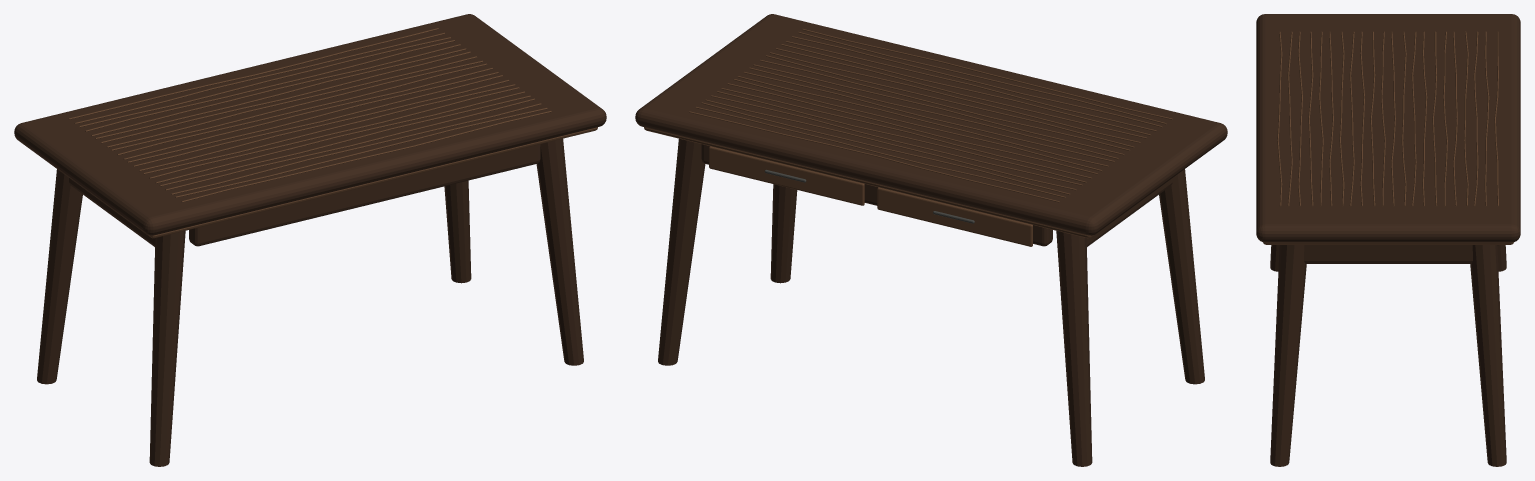
File: desk_desktop.fbx
The picture shows the model from 3 angles, left to right: view 1: azimuth 30°, elevation 25°; view 2: azimuth 150°, elevation 25°; view 3: azimuth 270°, elevation 25°; orthographic projection. The views are drawn at different scales.
Parts seen in each view (by area): view 1: desk_desktop; view 2: desk_desktop; view 3: desk_desktop.
Part boxes in pixels (bbox=[...]): desk_desktop: bbox=[14, 14, 606, 466]; desk_desktop: bbox=[635, 14, 1227, 466]; desk_desktop: bbox=[1256, 14, 1520, 466].
Size of the model in its own units: 1.4 by 0.7411 by 0.72.
